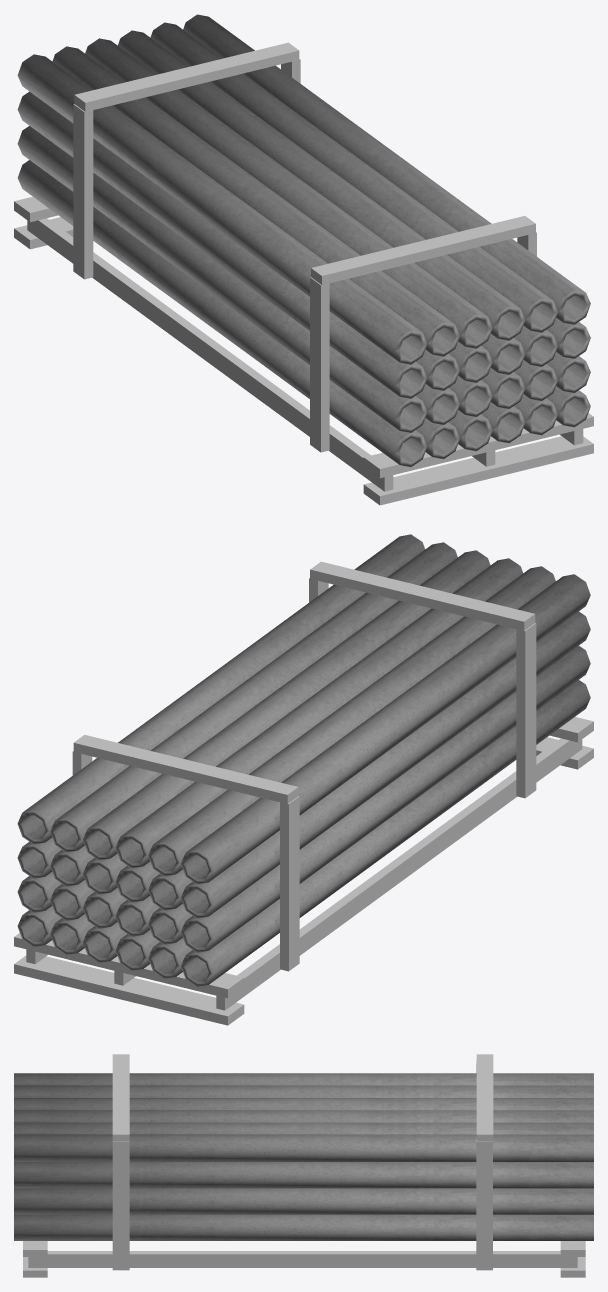
The model's file is pvc_pipe_pallet.fbx.
The picture shows the model from 3 angles, top to bottom: view 1: azimuth 30°, elevation 25°; view 2: azimuth 150°, elevation 25°; view 3: azimuth 270°, elevation 25°; orthographic projection. The views are drawn at different scales.
Visible parts, largest first — view 1: pvc_pipe, pvc_pipe_wood_pallet; view 2: pvc_pipe, pvc_pipe_wood_pallet; view 3: pvc_pipe, pvc_pipe_wood_pallet.
Boxes of the visible parts, x1,y1,x2,y2 form: pvc_pipe: (17,14,590,466); pvc_pipe_wood_pallet: (14,42,593,505); pvc_pipe: (17,534,590,986); pvc_pipe_wood_pallet: (14,561,593,1025); pvc_pipe: (14,1073,593,1240); pvc_pipe_wood_pallet: (23,1054,585,1277).
Size of the model in its own units: 101 by 83.2 by 305.
